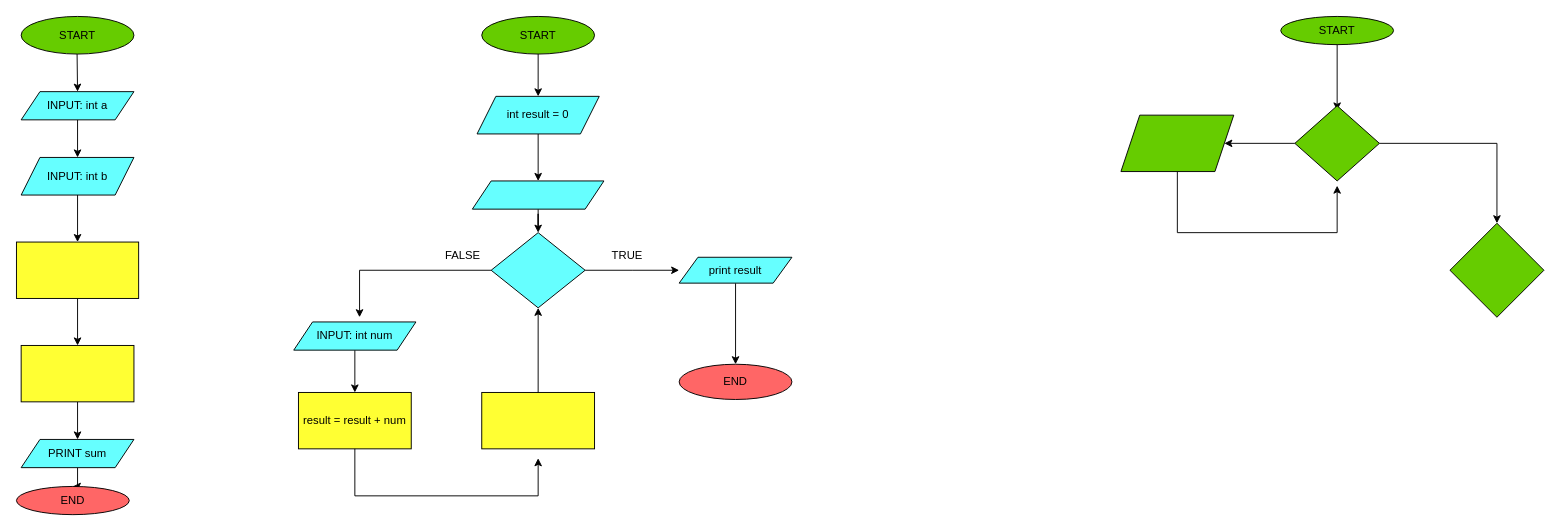
The diagram is 1560 pixels wide and 531 high, and some of its shapes have lost their labels. The shapes that lost their labels are listed below. From the top down, each one's box as (x1, y1, x2, y2) in pixels, then its label:
(1294, 105, 1379, 181): WHILE X < 0
(471, 180, 604, 209): INPUT: int n
(16, 241, 139, 298): square a then square b
(490, 232, 585, 308): WHILE n<0
(20, 345, 134, 402): sum = square a + square b
(481, 392, 595, 449): decrease n by 1
